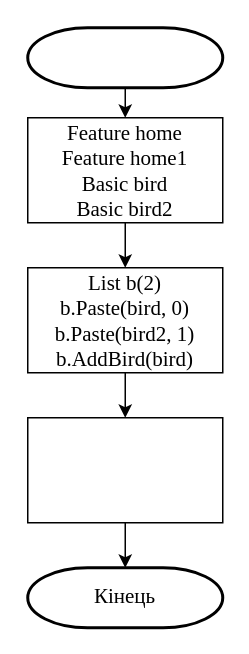
This 249x654 diagram has some shape labels left out. The centre of each missing label's shape, as x and y in pixels:
"b.RemoveBird(0) b.ShowAll() b.FindPercentage()" belongs at (x=124, y=469).
"Початок" belongs at (x=125, y=57).
